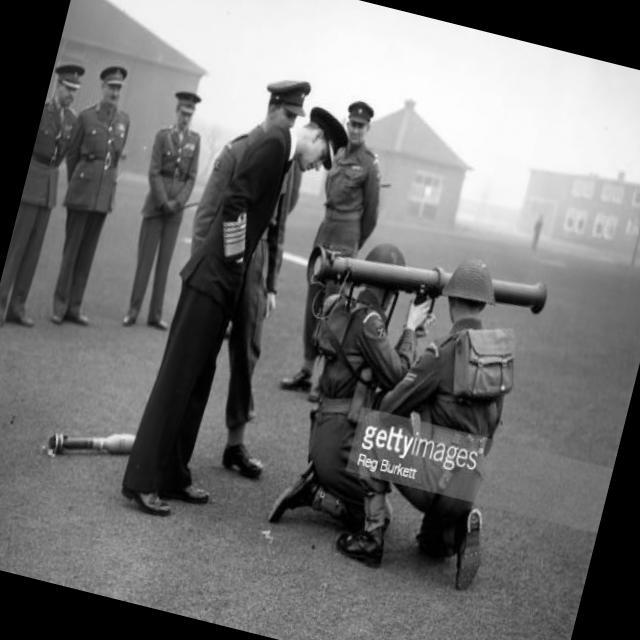rocket: (300, 226, 550, 342)
